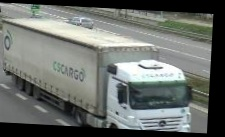car: (67, 17, 95, 29)
